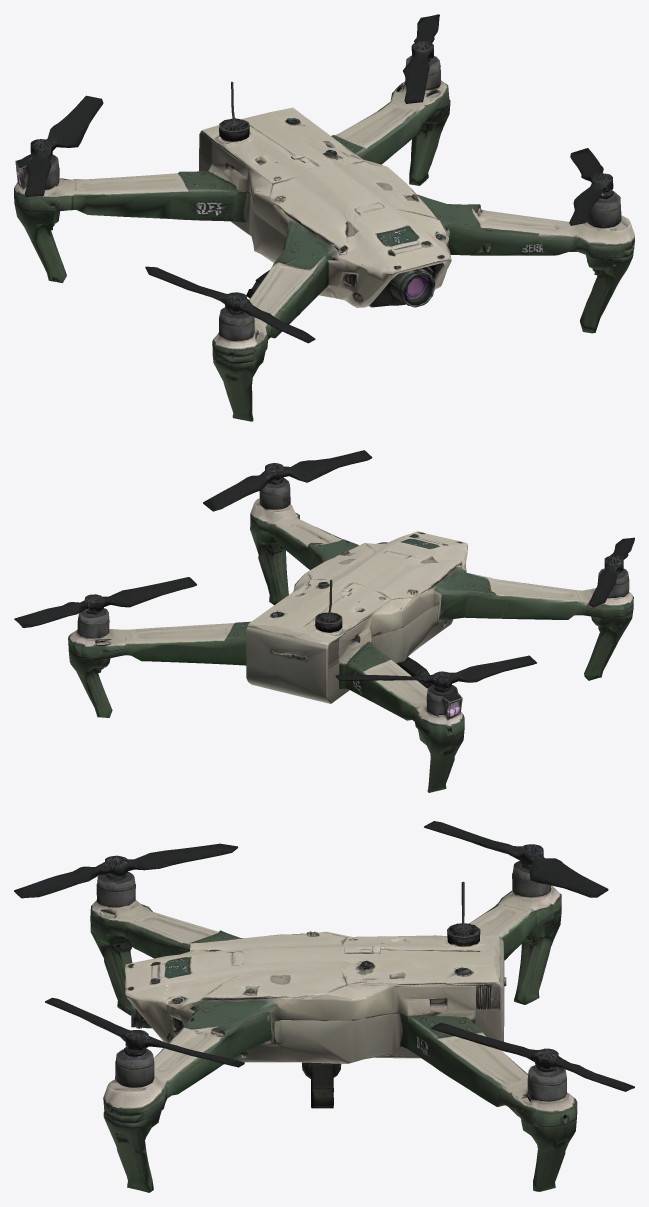
Rendered from t243_drr_lod0.glb.
The picture shows the model from 3 angles, top to bottom: view 1: azimuth 30°, elevation 25°; view 2: azimuth 150°, elevation 25°; view 3: azimuth 270°, elevation 25°; orthographic projection. The views are drawn at different scales.
Bounding box in the file's own units: 2.2 × 0.7961 × 2.2.
Materials: 1 (1 with a texture image).
